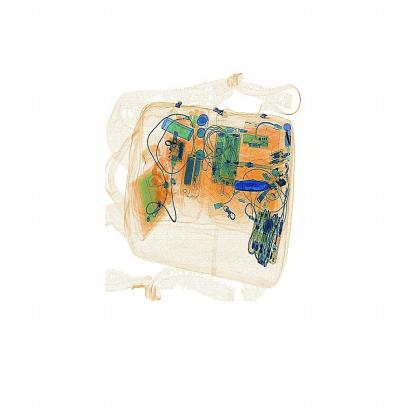knife: (225, 174, 279, 200)
